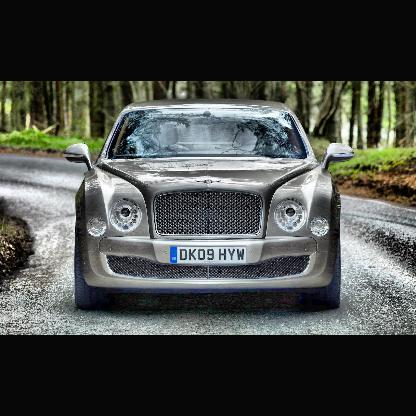Bentley Mulsanne Sedan 2011: (67, 104, 354, 310)
